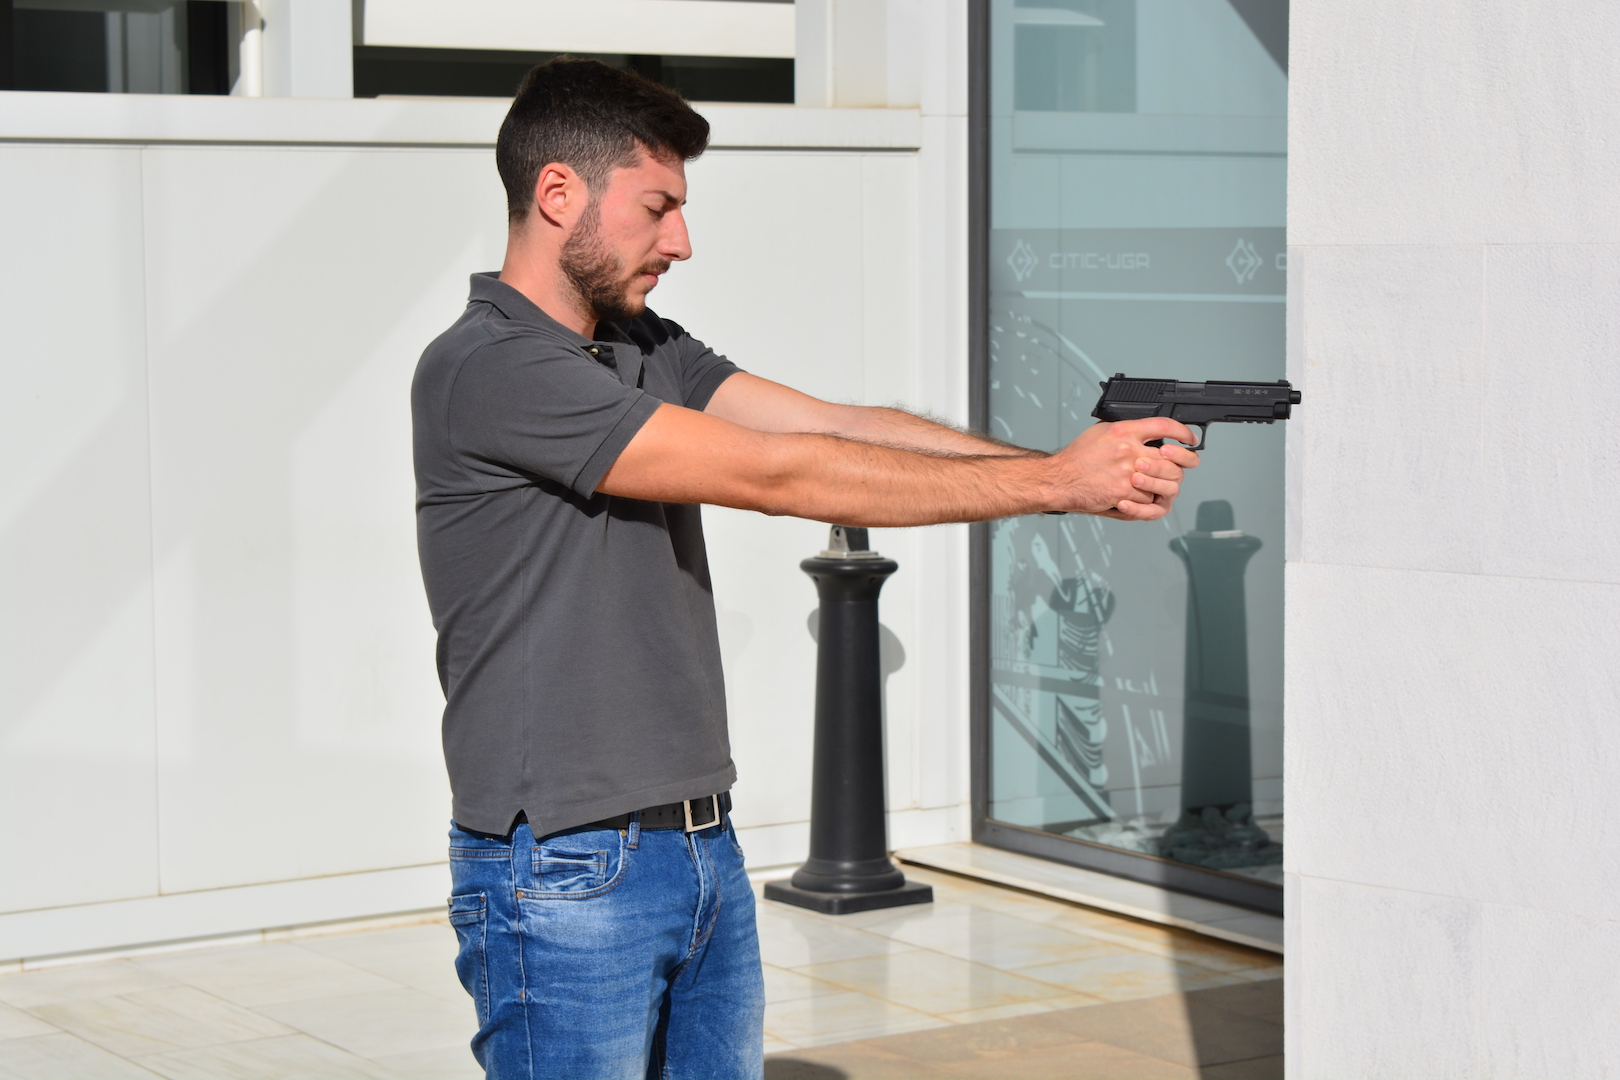pistol: (1090, 372, 1302, 451)
